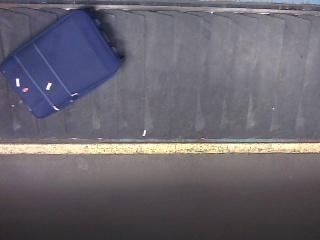Suitcase: (2, 6, 128, 120)
